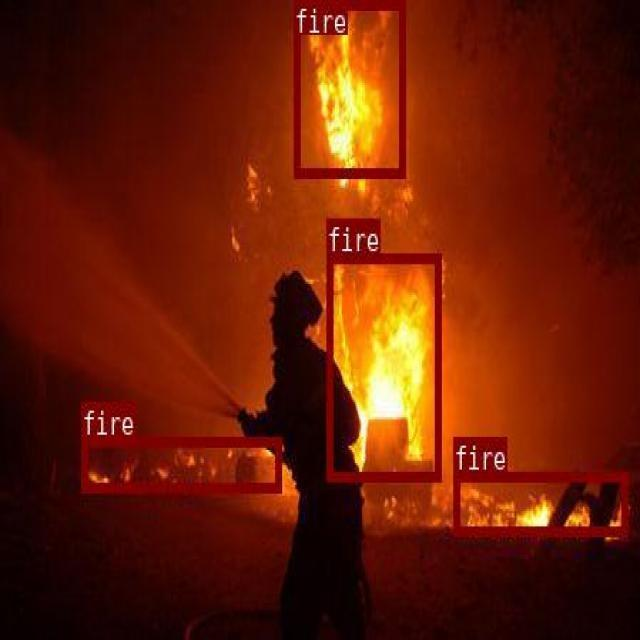fire: (326, 252, 439, 479), (294, 0, 405, 175), (452, 470, 626, 534), (81, 437, 280, 491)
